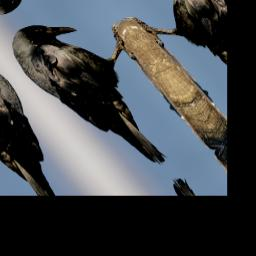Crow: (0, 0, 219, 186)
